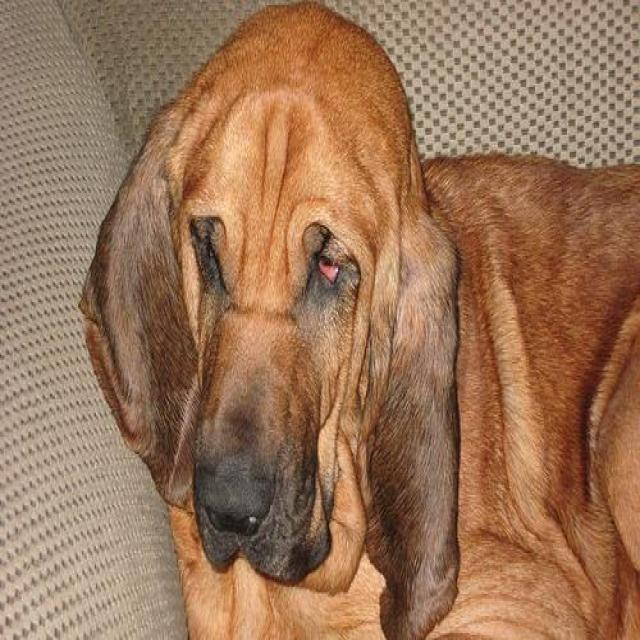bloodhound: (75, 4, 638, 636)
